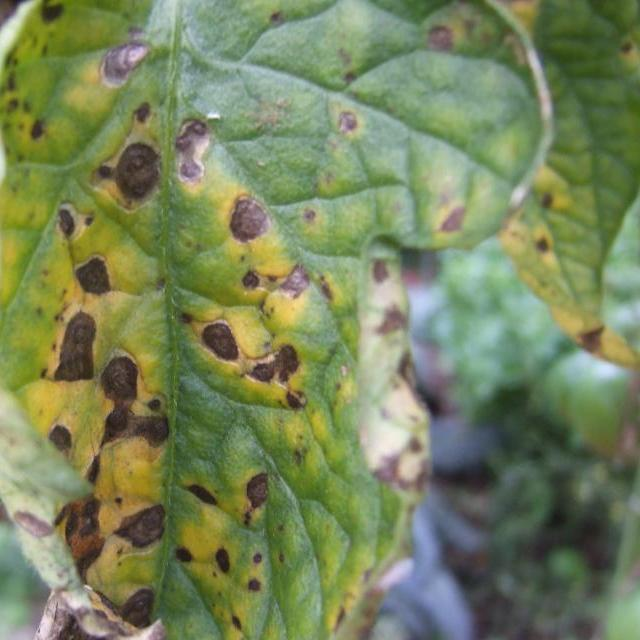Tomato Early blight leaf: (0, 0, 551, 640)
